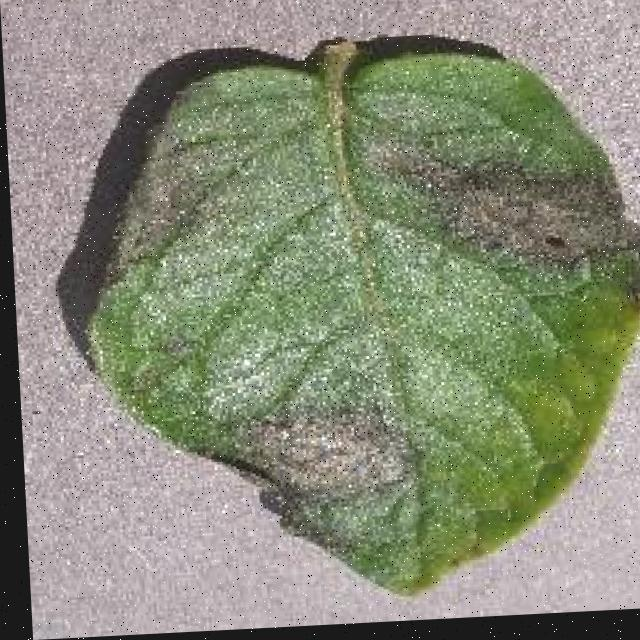Late_blight: (360, 124, 640, 348), (219, 377, 434, 561), (79, 104, 245, 316)
